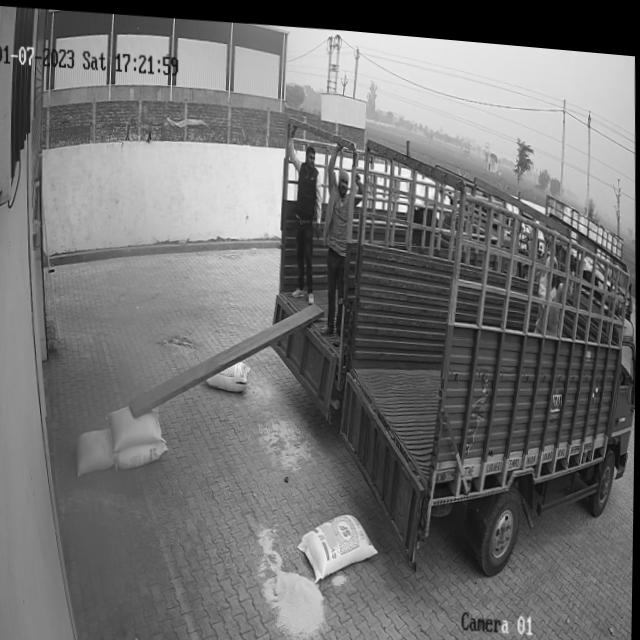sack: (299, 503, 380, 580), (106, 401, 163, 451), (77, 425, 116, 477), (117, 435, 169, 469), (205, 354, 251, 390)
